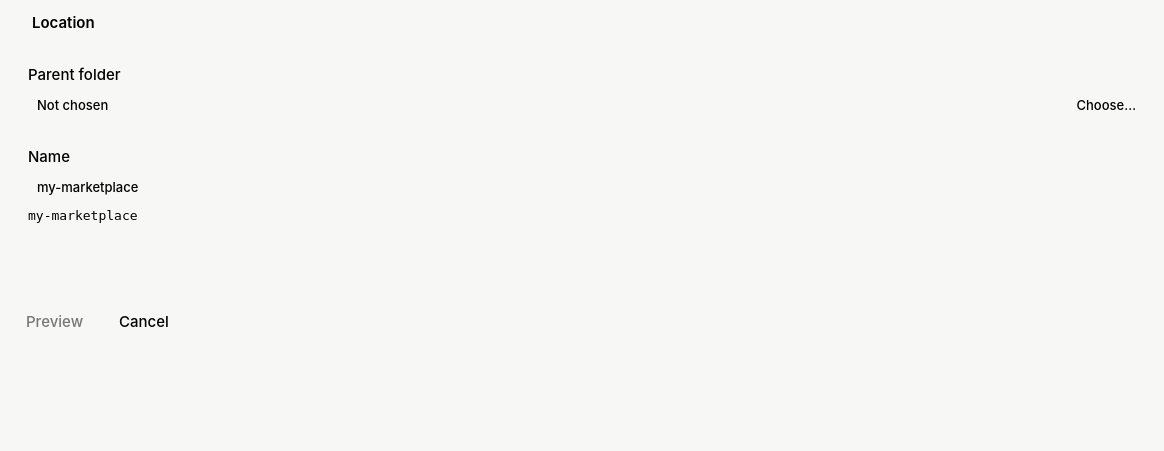
Test: CreateMarketplaceFlow › renders a blocked preview as a diagnostic without an apply action
Step 1. Click the button with test id "create-marketplace-pick-parent" → click(1106, 106), box top-left (1064, 92), bottom-right (1148, 120)
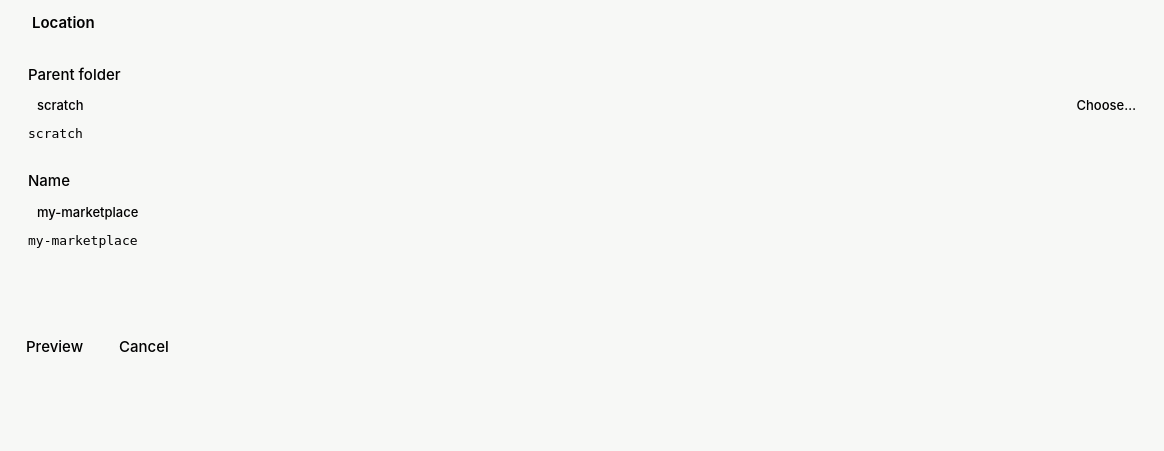
Step 2. Click the button with test id "create-marketplace-preview" → click(55, 347), box top-left (12, 331), bottom-right (97, 363)
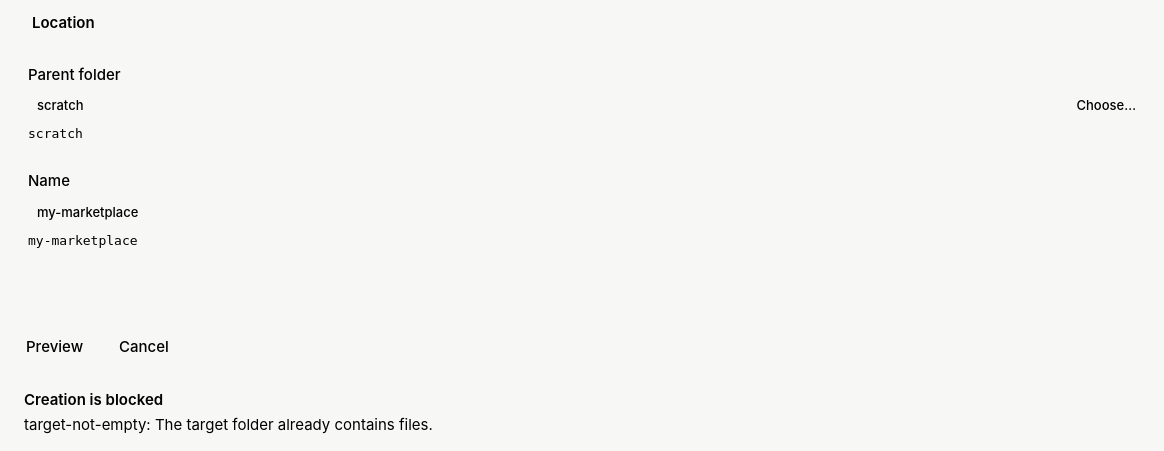
Expected: the text "target-not-empty" is shown, top-left (24, 415), bottom-right (146, 434)
